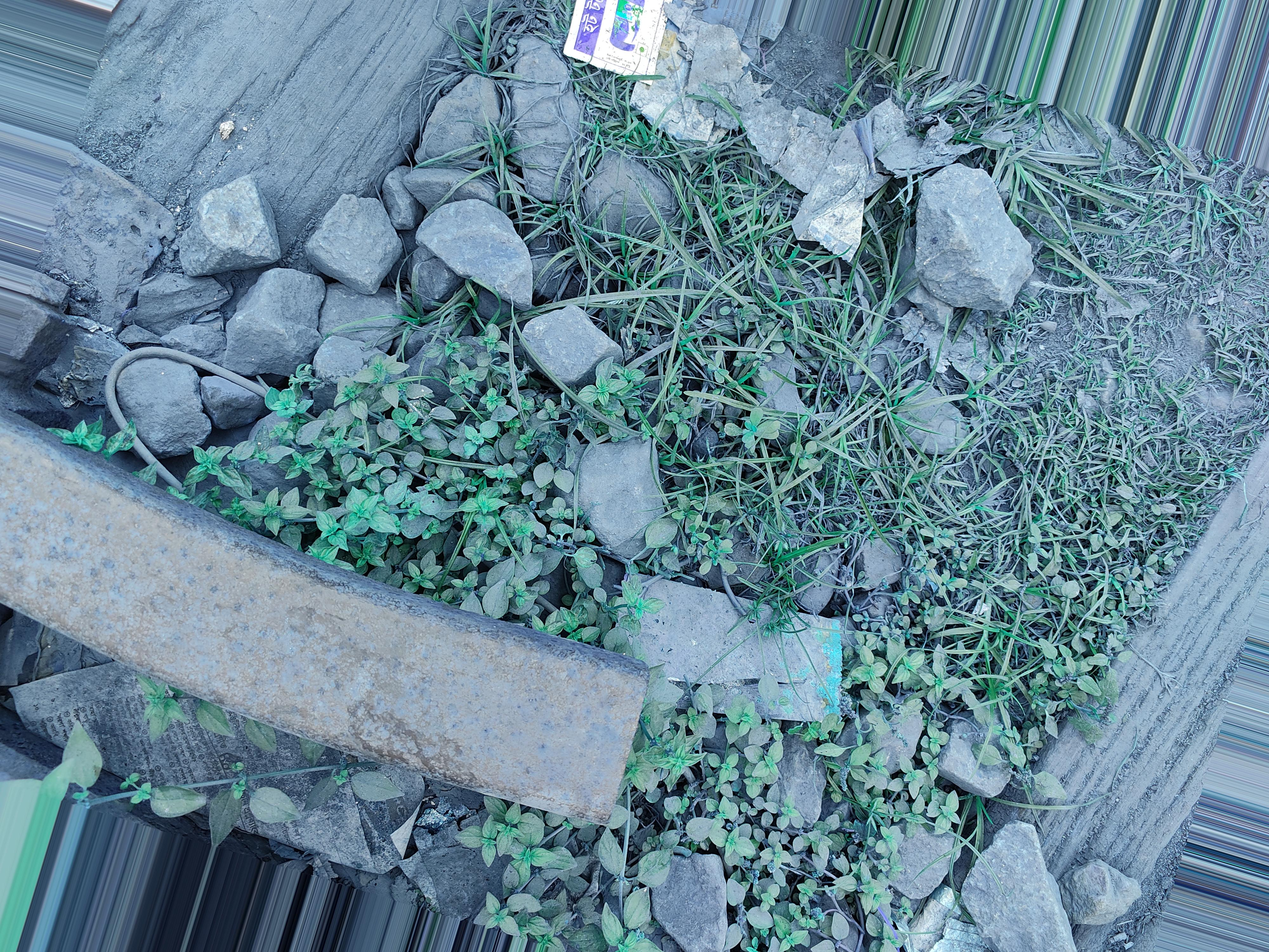tracks_fault: (489, 572, 1160, 887)
